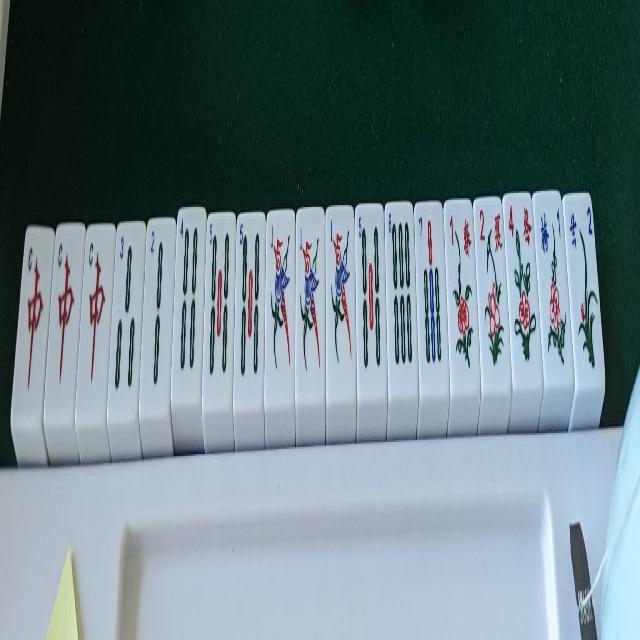bf1: (539, 194, 567, 374)
bf2: (568, 194, 598, 374)
bs1: (448, 205, 474, 376)
bs2: (478, 201, 504, 374)
bs4: (508, 192, 536, 372)
hdr: (55, 234, 75, 396), (86, 238, 106, 398), (26, 238, 44, 392)
sb1: (328, 212, 352, 380), (298, 214, 320, 382), (270, 215, 292, 383)
sb2: (146, 228, 168, 394)
sb3: (114, 228, 136, 394)
sb4: (178, 213, 200, 380)
sb5: (238, 217, 261, 385), (207, 217, 230, 385), (358, 212, 380, 380)
sb6: (388, 205, 414, 372)
sb7: (418, 212, 442, 372)
